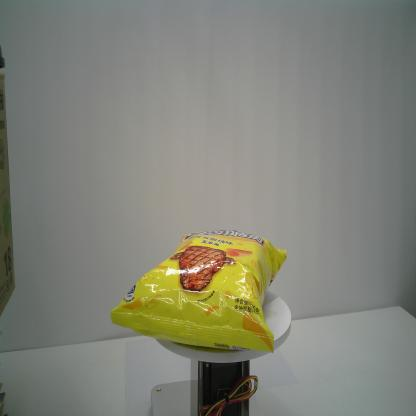Puffed Food: (112, 224, 288, 354)
